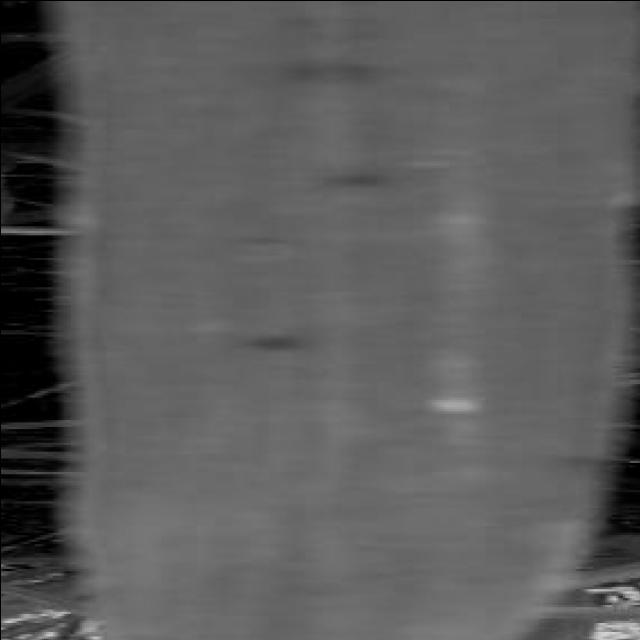Brown_Spot: (268, 50, 394, 104), (221, 318, 320, 381), (408, 381, 492, 437), (315, 158, 399, 212), (546, 437, 608, 494)
